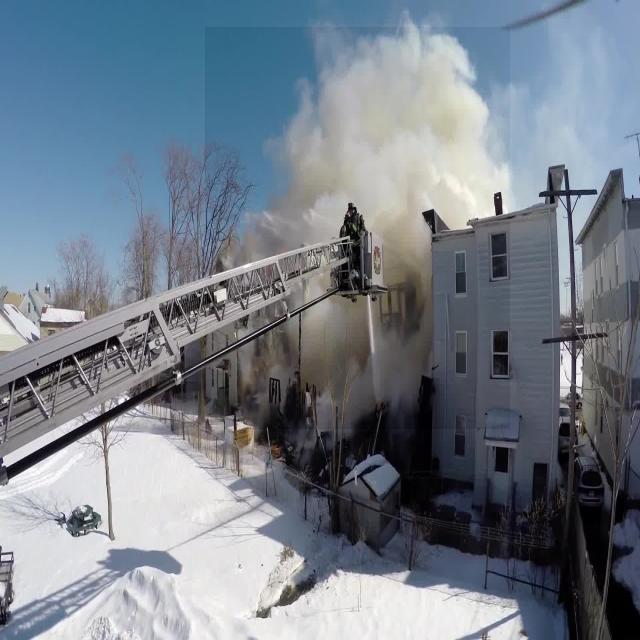Smoke: (205, 27, 510, 429)
